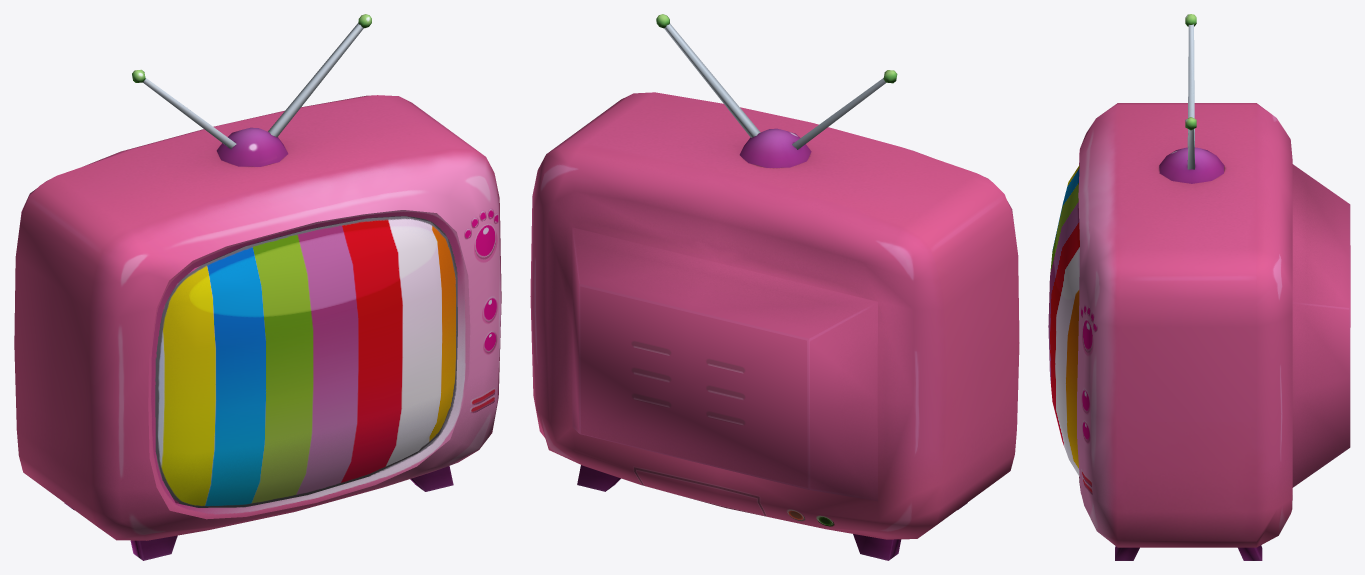
The picture shows the model from 3 angles, left to right: view 1: azimuth 30°, elevation 25°; view 2: azimuth 150°, elevation 25°; view 3: azimuth 270°, elevation 25°; orthographic projection. The views are drawn at different scales.
Parts seen in each view (by area): view 1: 069; view 2: 069; view 3: 069.
Part boxes in pixels (box(x1,y1,x2,y2)): 069: box(14, 14, 501, 560); 069: box(530, 14, 1019, 560); 069: box(1048, 14, 1350, 560).
Size of the model in its own units: 52.08 by 54.54 by 35.39.
1 material, 1 textured.
